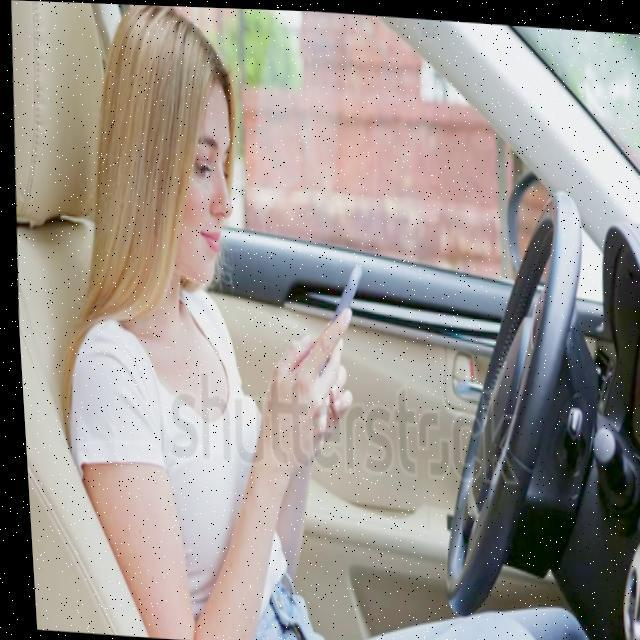PhoneCall: (310, 256, 364, 374)
